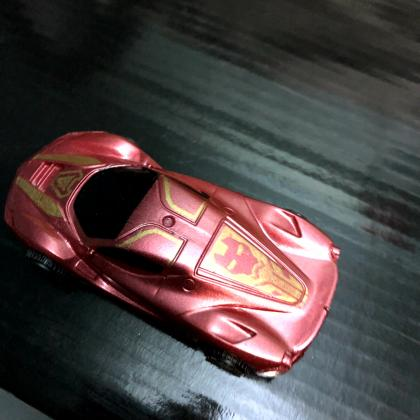Car: (3, 131, 340, 383)
